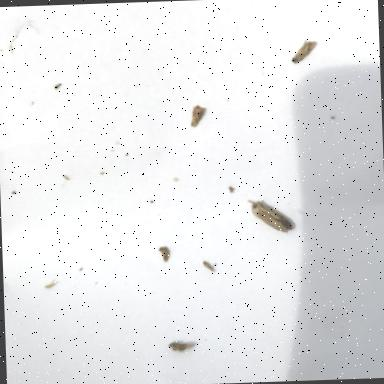pbw: (246, 195, 292, 232), (289, 38, 316, 61), (188, 104, 204, 127)
